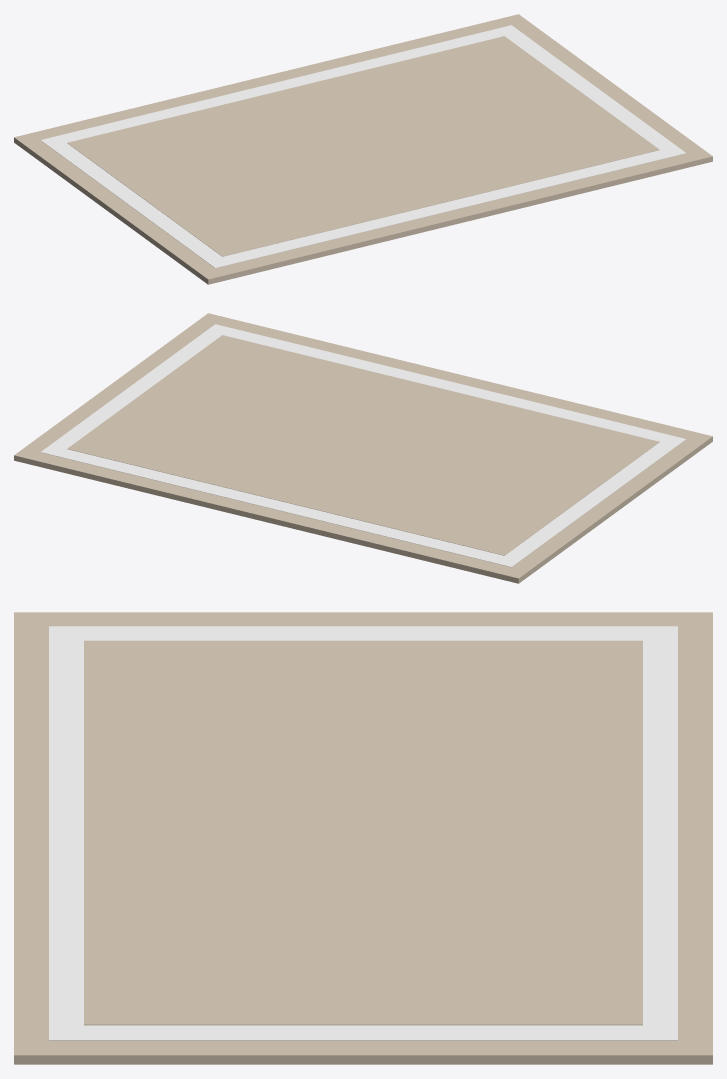
File: rug.glb
3 views of the same model, one above another, from view 1: azimuth 30°, elevation 25°; view 2: azimuth 150°, elevation 25°; view 3: azimuth 270°, elevation 25° (orthographic). The views are drawn at different scales.
Bounding box in the file's own units: 3 × 0.033 × 2.
